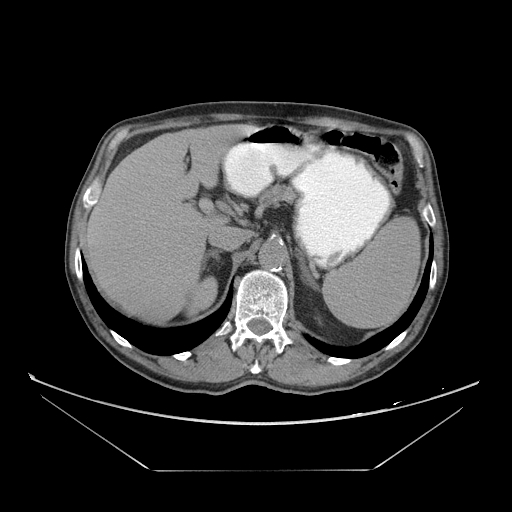left_kidney: (179, 271, 226, 315)
